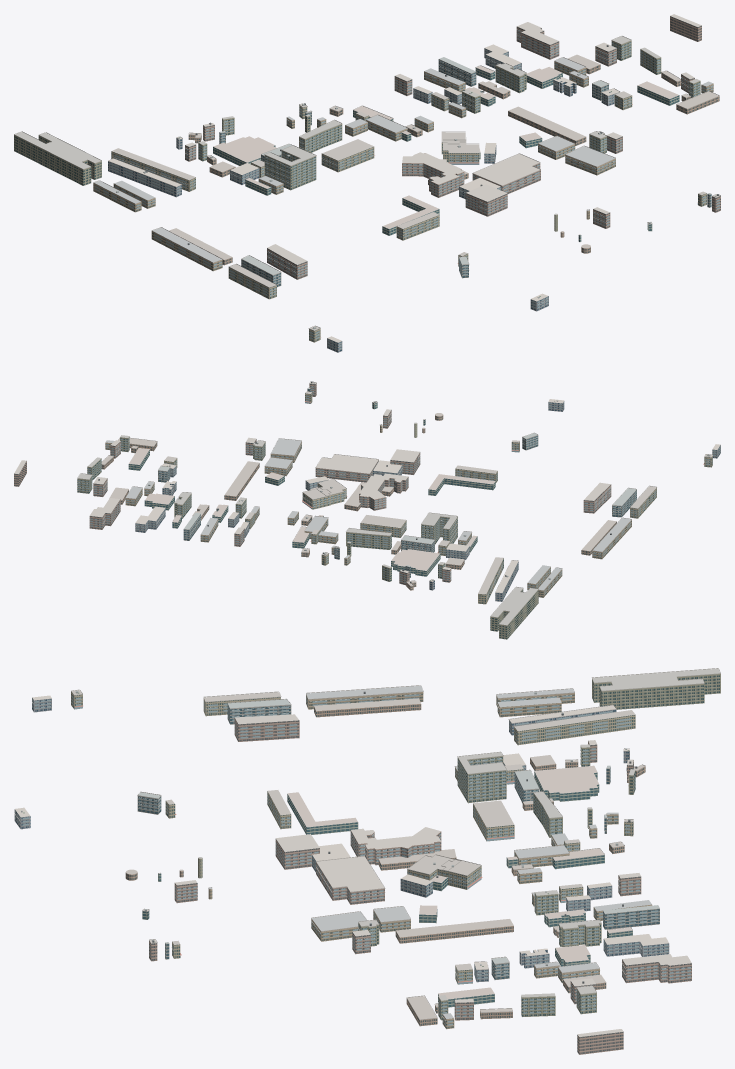
Rendered from agargaon-osm-buildings.glb.
3 renders of one model, top to bottom at view 1: azimuth 30°, elevation 25°; view 2: azimuth 150°, elevation 25°; view 3: azimuth 270°, elevation 25°, orthographic. The views are drawn at different scales.
Parts seen in each view (by area): view 1: Station 8 surrounding real OSM building footprints; view 2: Station 8 surrounding real OSM building footprints; view 3: Station 8 surrounding real OSM building footprints.
Boxes of the visible parts, x1,y1,x2,y2 form: Station 8 surrounding real OSM building footprints: [14, 14, 720, 352]; Station 8 surrounding real OSM building footprints: [14, 381, 720, 639]; Station 8 surrounding real OSM building footprints: [14, 668, 720, 1054].
Bounding box in the file's own units: 776 × 29.61 × 633.
26 materials, 8 textured.
